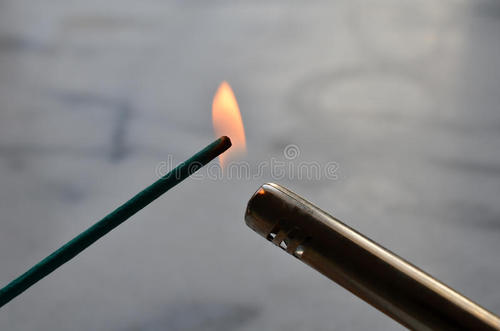Fire: (209, 75, 250, 167)
